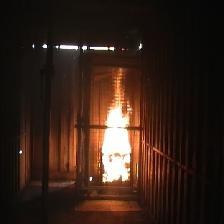fire: (102, 97, 134, 186)
